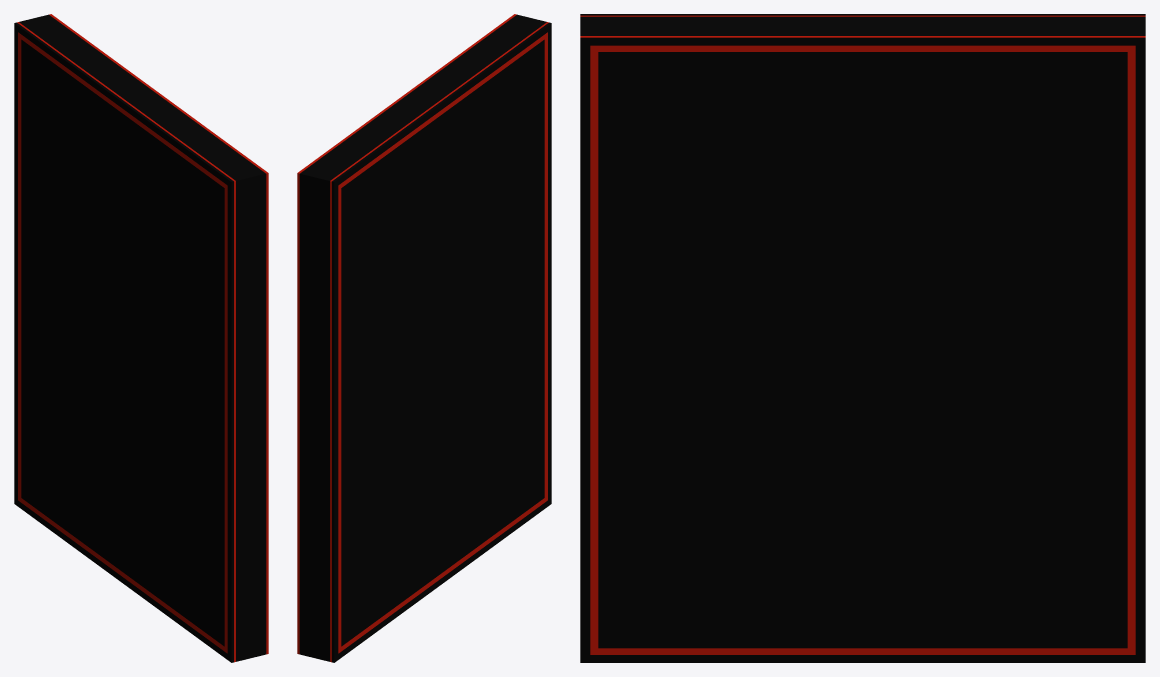
3 views of the same model, side by side, from view 1: azimuth 30°, elevation 25°; view 2: azimuth 150°, elevation 25°; view 3: azimuth 270°, elevation 25° (orthographic). The views are drawn at different scales.
Parts seen in each view (by area): view 1: Box003; view 2: Box003; view 3: Box003.
Boxes of the visible parts, box(x1,y1,x2,y2) form: Box003: box(14, 14, 268, 662); Box003: box(297, 14, 551, 662); Box003: box(580, 14, 1145, 662).
Size of the model in its own units: 17.36 by 215 by 176.
